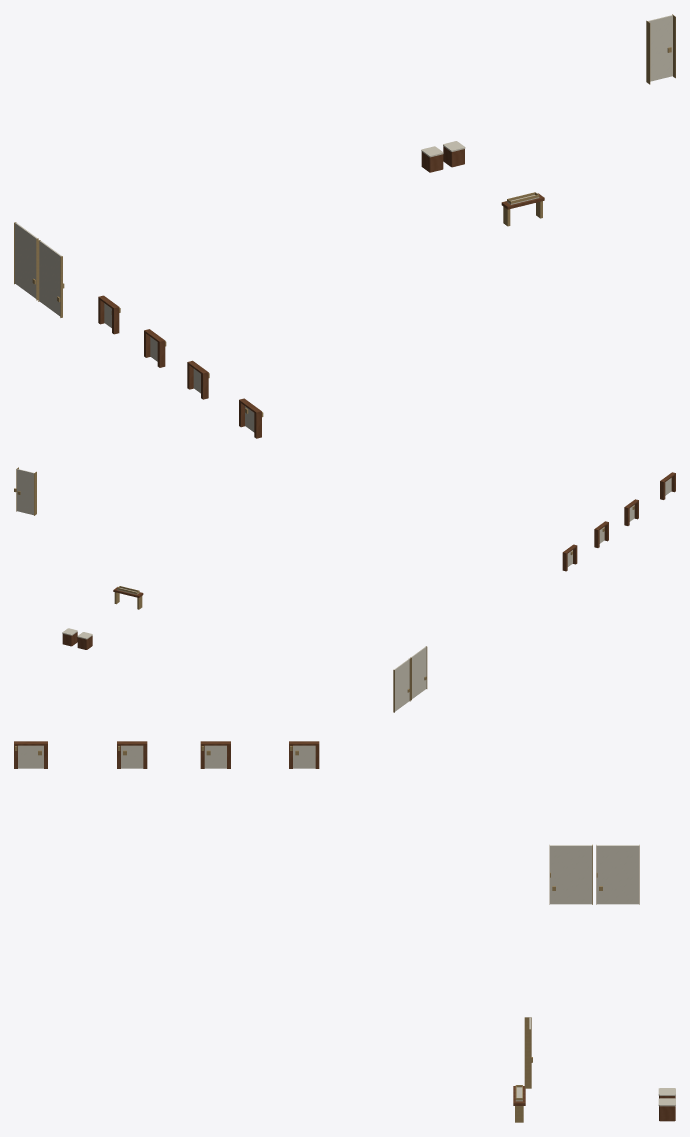
The model's file is D04_PHYSICAL_FITTINGS_r002.glb.
The picture shows the model from 3 angles, top to bottom: view 1: azimuth 30°, elevation 25°; view 2: azimuth 150°, elevation 25°; view 3: azimuth 270°, elevation 25°; orthographic projection. The views are drawn at different scales.
Parts seen in each view (by area): view 1: D04PC_CourtSouth_Leaf, D04PC_StaffUsed_Leaf, D04PC_StaffClean_Leaf; view 2: D04PC_CourtSouth_Leaf, D04PC_StaffUsed_Leaf, D04PC_StaffClean_Leaf; view 3: D04PC_StaffUsed_Leaf, D04PC_StaffClean_Leaf, D04PC_Hatch_928_1_Leaf.
Part boxes in pixels (x1,y1,x2,y2): D04PC_CourtSouth_Leaf: (648, 15, 672, 81); D04PC_StaffUsed_Leaf: (15, 222, 37, 298); D04PC_StaffClean_Leaf: (39, 240, 61, 316); D04PC_CourtSouth_Leaf: (17, 469, 33, 515); D04PC_StaffUsed_Leaf: (394, 659, 409, 711); D04PC_StaffClean_Leaf: (411, 646, 426, 698); D04PC_StaffUsed_Leaf: (596, 845, 639, 904); D04PC_StaffClean_Leaf: (550, 845, 592, 904); D04PC_Hatch_928_1_Leaf: (18, 745, 43, 768).
Size of the model in its own units: 31.57 by 7.2 by 27.31.
Materials: 3 (3 with a texture image).
